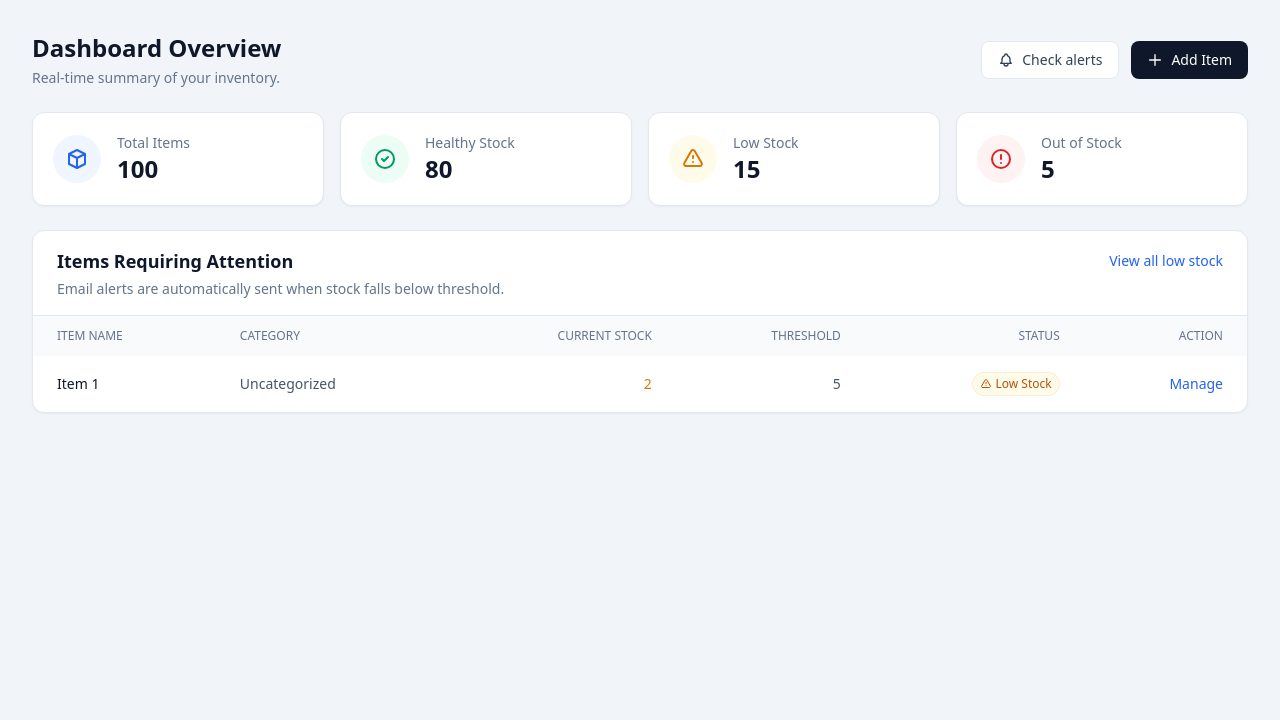
Test: DashboardPage.vue › shows overwhelmed email service message on 503 error
The width and height of the screenshot is (1280, 720).
Click the button "Check alerts": click(1050, 60) [981, 41, 1119, 79]
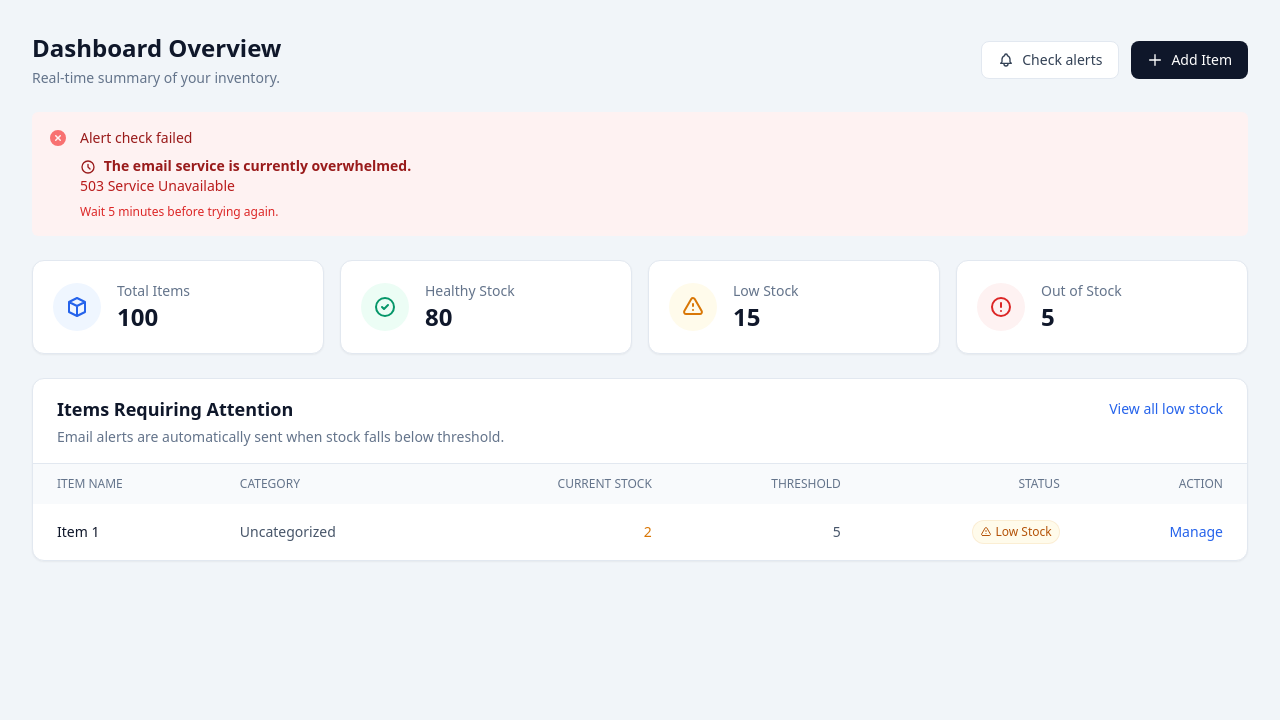
Check: the text "The email service is currently overwhelmed" is shown, box [100, 156, 411, 175]
Check: the text "Wait 5 minutes before trying again" is shown, box [80, 203, 278, 220]
